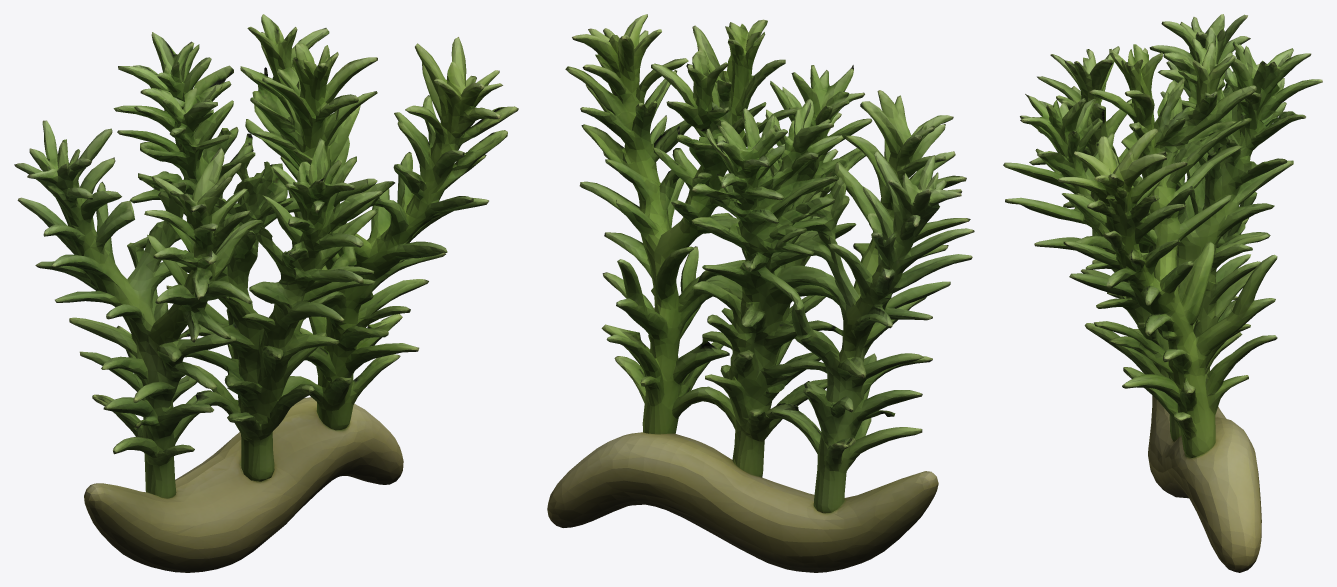
3 renders of one model, left to right at view 1: azimuth 30°, elevation 25°; view 2: azimuth 150°, elevation 25°; view 3: azimuth 270°, elevation 25°, orthographic. The views are drawn at different scales.
Parts seen in each view (by area): view 1: world; view 2: world; view 3: world.
Boxes of the visible parts, box(x1,y1,x2,y2) form: world: box(14, 14, 518, 572); world: box(547, 14, 974, 572); world: box(1003, 14, 1322, 572).
Bounding box in the file's own units: 0.8829 × 1 × 0.6145.
Materials: 1 (1 with a texture image).
